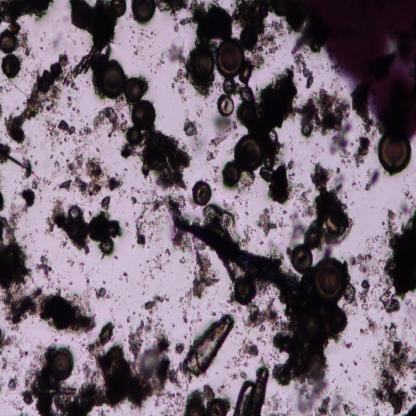Background material: (92, 318, 182, 410), (273, 287, 350, 385), (222, 61, 298, 160), (290, 158, 357, 255), (5, 52, 70, 142), (23, 347, 107, 414), (367, 318, 416, 416), (0, 288, 98, 336), (377, 197, 416, 317), (45, 196, 126, 253), (121, 130, 192, 194), (232, 0, 310, 55), (300, 84, 353, 143), (59, 154, 122, 198), (0, 216, 35, 291), (182, 0, 233, 50), (71, 0, 117, 50), (130, 191, 168, 251), (73, 43, 112, 93), (186, 237, 218, 297), (205, 113, 240, 164), (233, 367, 270, 415), (252, 19, 285, 71), (260, 160, 298, 204), (329, 130, 371, 169), (0, 0, 56, 27), (187, 382, 230, 416), (356, 276, 380, 336), (247, 301, 286, 335), (312, 390, 361, 415), (92, 105, 129, 137), (141, 249, 171, 286), (296, 379, 326, 415), (232, 336, 263, 369), (258, 204, 288, 236), (42, 117, 76, 145), (293, 48, 315, 89), (166, 36, 191, 68), (264, 391, 294, 416), (347, 252, 381, 274), (166, 191, 190, 222), (0, 350, 30, 374), (141, 293, 171, 314), (74, 126, 95, 156), (172, 68, 190, 102), (36, 251, 54, 282), (158, 1, 190, 18), (342, 277, 358, 310), (180, 290, 196, 321), (11, 156, 32, 179), (6, 204, 26, 228), (16, 186, 36, 208), (31, 171, 54, 190), (20, 26, 33, 58), (65, 94, 82, 115), (363, 169, 379, 191), (0, 327, 12, 356), (242, 169, 256, 192), (96, 282, 112, 302), (185, 117, 200, 138), (0, 140, 12, 165), (13, 144, 32, 155), (67, 258, 84, 270), (7, 376, 19, 392), (0, 191, 7, 212), (118, 270, 129, 281), (238, 370, 249, 379)
Cotton: (174, 214, 308, 296)
Diatom: (183, 314, 232, 376), (376, 132, 412, 176), (313, 257, 347, 303), (216, 37, 246, 76), (233, 136, 263, 170), (190, 48, 216, 82), (101, 63, 124, 97), (132, 100, 156, 129), (235, 277, 258, 305), (130, 0, 158, 23), (291, 245, 314, 272), (50, 352, 72, 380), (223, 161, 242, 187), (0, 28, 18, 55), (193, 181, 212, 206), (125, 77, 144, 102), (72, 3, 90, 28), (2, 53, 21, 76), (331, 310, 348, 334), (240, 28, 258, 50), (217, 94, 235, 115), (127, 124, 142, 146), (109, 0, 126, 18), (102, 236, 115, 254), (68, 204, 82, 220)
Pen: (310, 0, 416, 140)
